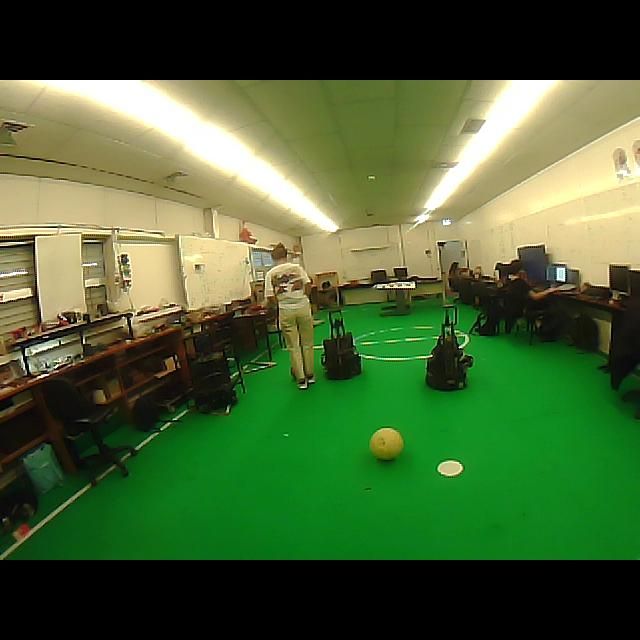ball: (370, 428, 404, 460)
robot: (426, 305, 474, 390), (190, 351, 238, 412), (321, 310, 361, 379)
